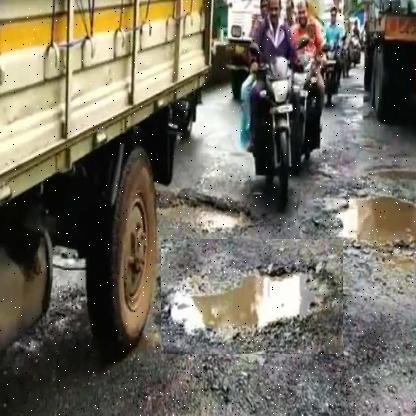damage: (154, 173, 257, 249)
pothole_water: (160, 239, 343, 355)
